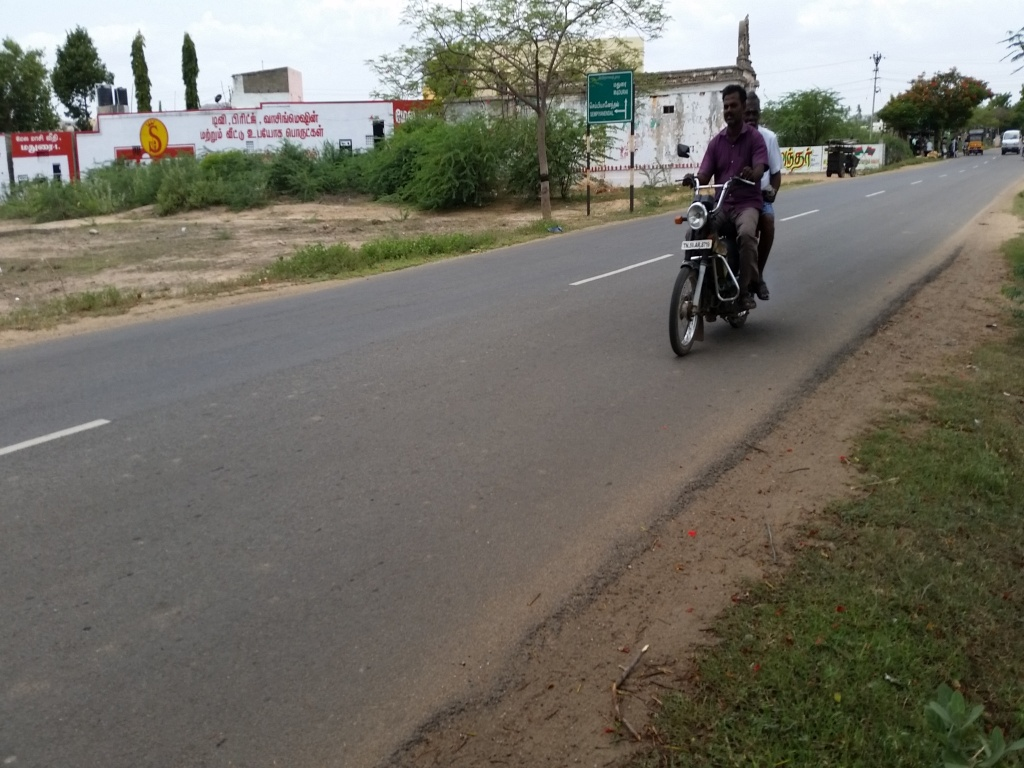biker: (644, 53, 808, 375)
nohelmet: (717, 75, 748, 142), (746, 88, 768, 146)
